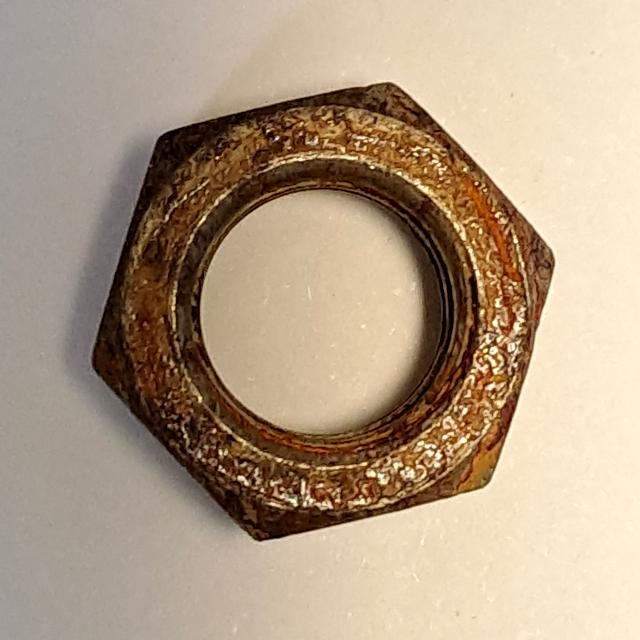Rust: (79, 62, 567, 562)
